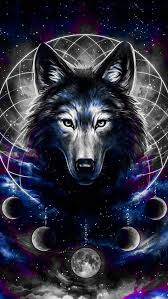Lobo: (18, 39, 155, 204)
